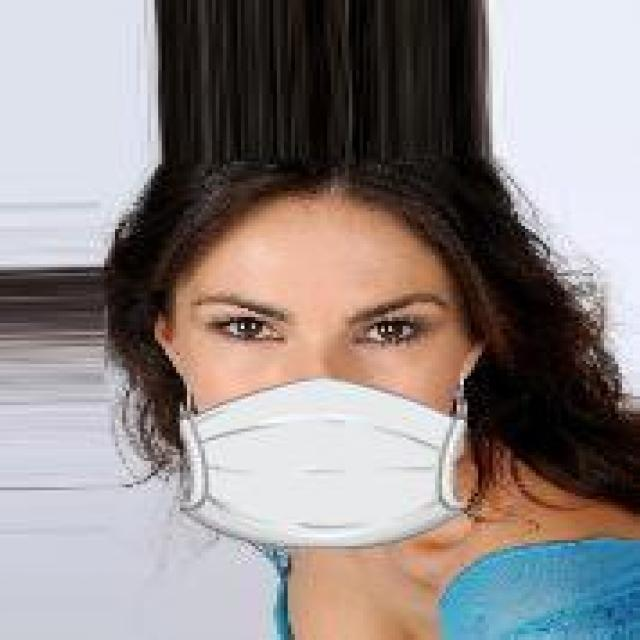mask: (115, 158, 539, 576)
